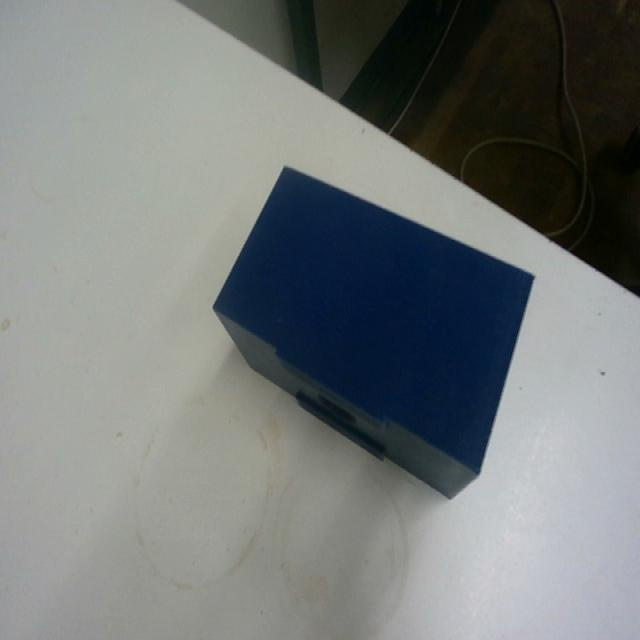Blue Cuboid: (210, 160, 536, 501)
